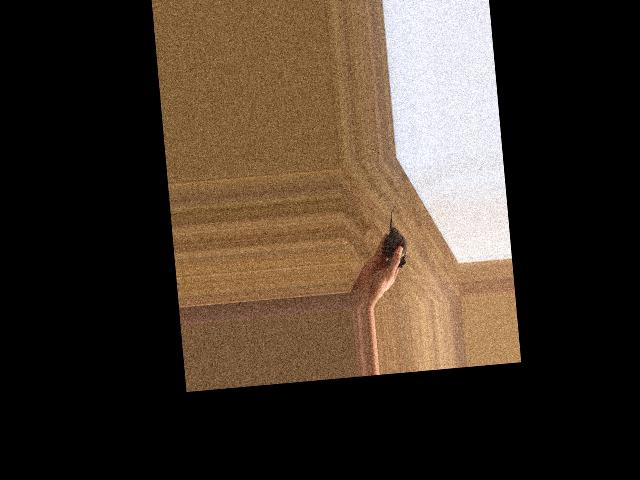beet: (380, 204, 408, 269)
